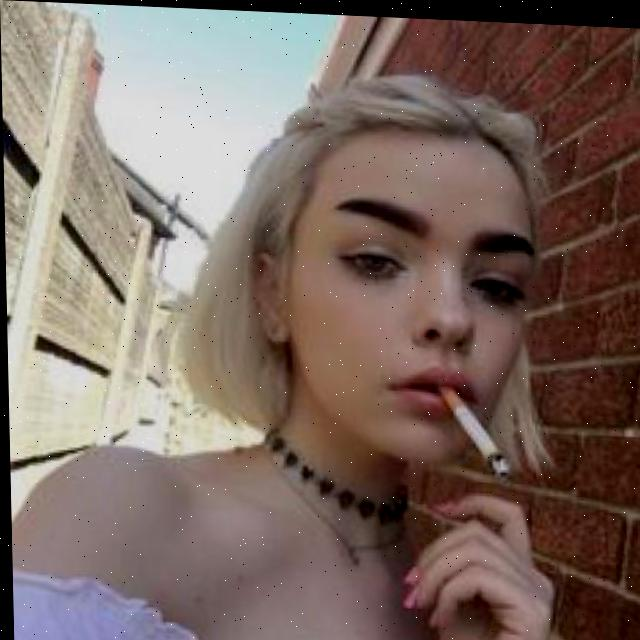cigarette: (438, 378, 512, 479)
